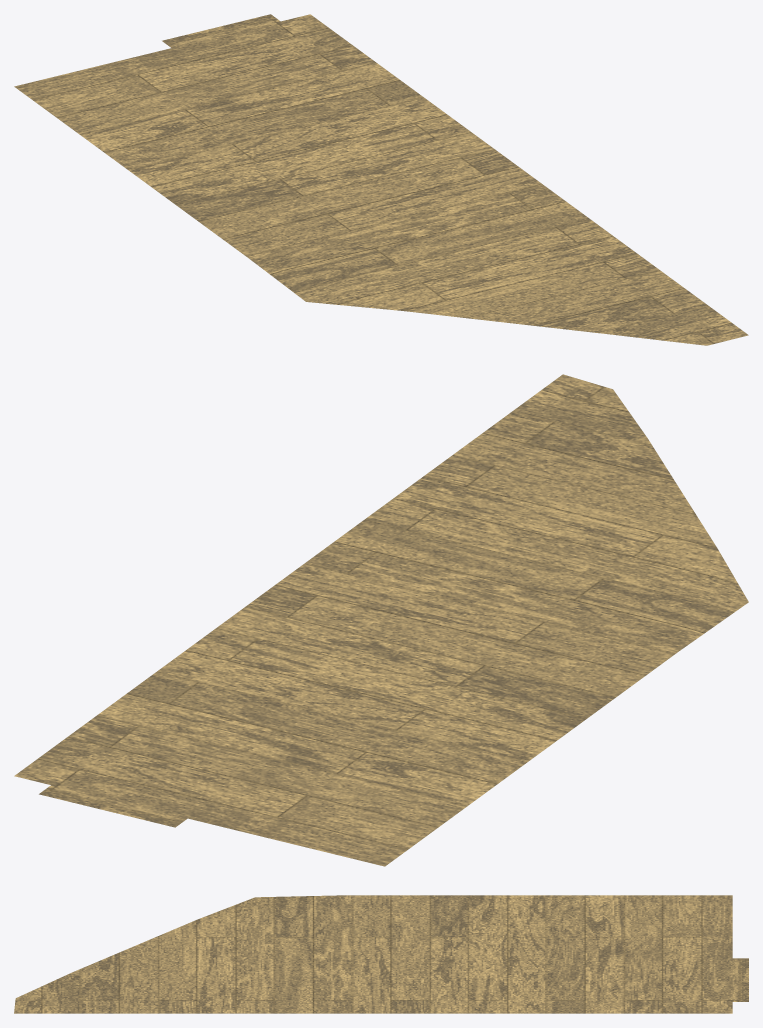
The model's file is bathroom_0_0.floor.glb.
The picture shows the model from 3 angles, top to bottom: view 1: azimuth 30°, elevation 25°; view 2: azimuth 150°, elevation 25°; view 3: azimuth 270°, elevation 25°; orthographic projection. The views are drawn at different scales.
Visible parts, largest first — view 1: bathroom_0/0.floor.001; view 2: bathroom_0/0.floor.001; view 3: bathroom_0/0.floor.001.
Boxes of the visible parts, x1,y1,x2,y2 form: bathroom_0/0.floor.001: (14,14,748,345); bathroom_0/0.floor.001: (14,374,748,866); bathroom_0/0.floor.001: (14,895,748,1013).
Bounding box in the file's own units: 2.24 × 0.0159 × 5.87.
Materials: 1 (1 with a texture image).
